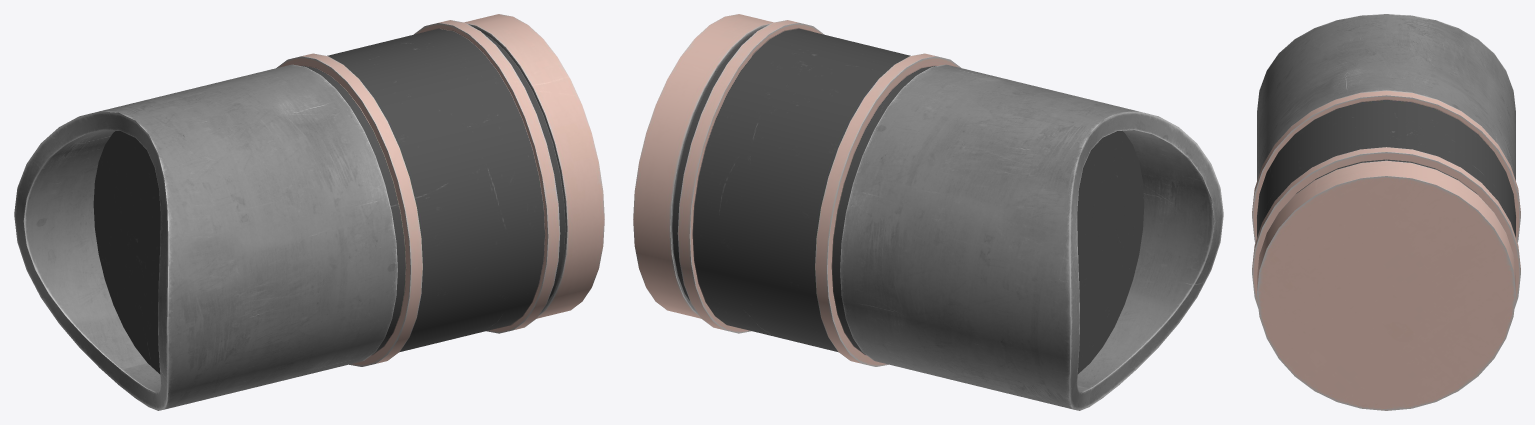
File: pommel_5_c_c.glb
3 views of the same model, side by side, from view 1: azimuth 30°, elevation 25°; view 2: azimuth 150°, elevation 25°; view 3: azimuth 270°, elevation 25° (orthographic). The views are drawn at different scales.
Visible parts, largest first — view 1: pommel_5_c_c_lod0; view 2: pommel_5_c_c_lod0; view 3: pommel_5_c_c_lod0.
Boxes of the visible parts, x1,y1,x2,y2 form: pommel_5_c_c_lod0: (14, 14, 604, 410); pommel_5_c_c_lod0: (633, 14, 1223, 410); pommel_5_c_c_lod0: (1252, 14, 1520, 410).
Size of what is drawn, in the model's own units: 0.0488 by 0.0307 by 0.0307.
1 material, 1 textured.
